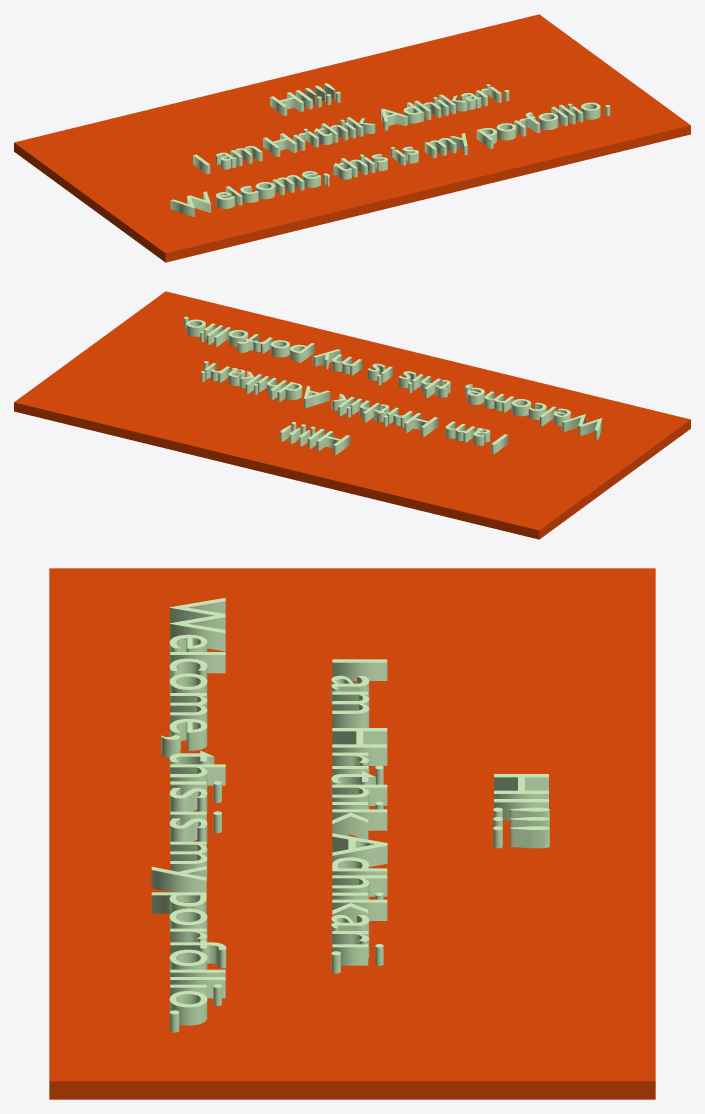
Rendered from intro_board-orignal.glb.
3 views of the same model, one above another, from view 1: azimuth 30°, elevation 25°; view 2: azimuth 150°, elevation 25°; view 3: azimuth 270°, elevation 25° (orthographic). The views are drawn at different scales.
Parts seen in each view (by area): view 1: Cube, Text-frontside; view 2: Cube, Text-frontside; view 3: Cube, Text-frontside.
Boxes of the visible parts, <box> form: Cube: <box>14,14,690,262</box>; Text-frontside: <box>170,83,610,216</box>; Cube: <box>14,291,690,539</box>; Text-frontside: <box>183,316,602,454</box>; Cube: <box>49,568,655,1099</box>; Text-frontside: <box>151,598,549,1032</box>.
Size of the model in its own units: 12 by 0.5943 by 6.
